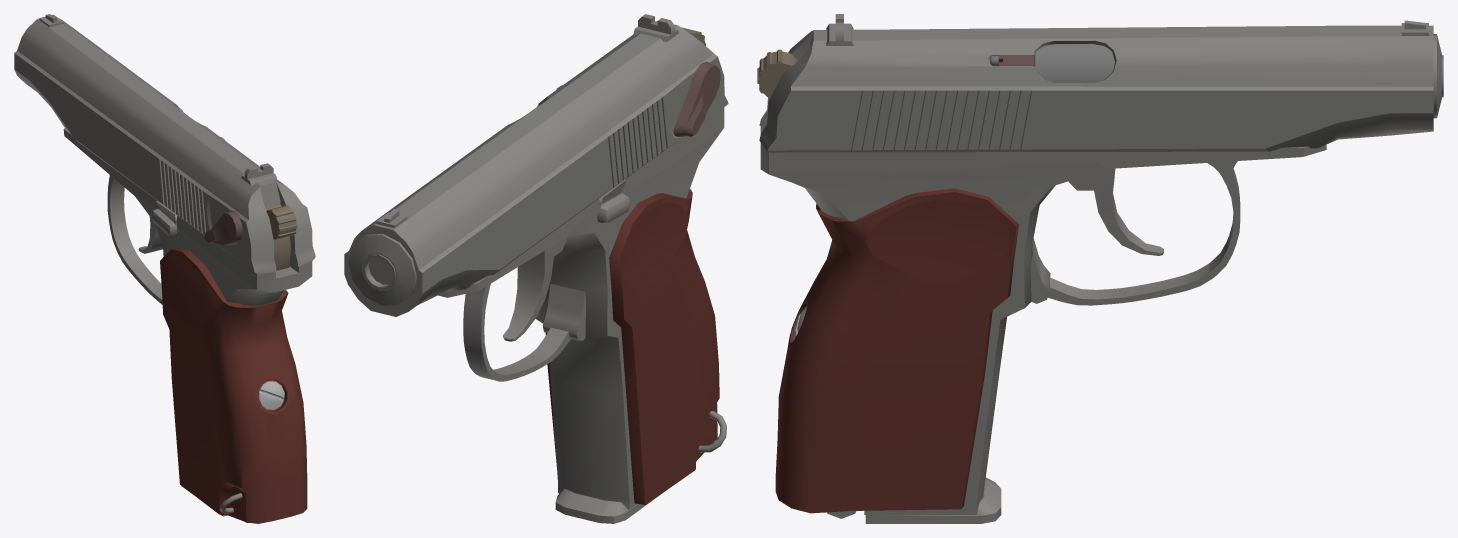
File: Pistolet Makarova.fbx
3 views of the same model, side by side, from view 1: azimuth 30°, elevation 25°; view 2: azimuth 150°, elevation 25°; view 3: azimuth 270°, elevation 25° (orthographic). The views are drawn at different scales.
Parts seen in each view (by area): view 1: polySurface22, polySurface61, polySurface26, polySurface18, polySurface23, polySurface24, pCylinder18, polySurface20, polySurface29, polySurface11; view 2: polySurface61, polySurface22, polySurface26, polySurface18, polySurface17, polySurface11, polySurface23, polySurface19, polySurface27, polySurface20, polySurface14, pTorus1; view 3: polySurface61, polySurface22, polySurface26, polySurface18, pCylinder30, polySurface11, polySurface27, polySurface24, polySurface19.
Boxes of the visible parts, x1,y1,x2,y2 form: polySurface22: (160,248,307,523); polySurface61: (14,18,315,273); polySurface26: (63,128,312,306); polySurface18: (107,175,162,304); polySurface23: (204,210,242,245); polySurface24: (266,205,297,239); pCylinder18: (259,381,284,409); polySurface20: (151,201,177,235); polySurface29: (265,203,290,270); polySurface11: (138,216,162,253); polySurface61: (344,21,728,316); polySurface22: (545,189,719,504); polySurface26: (438,107,724,509); polySurface18: (463,284,570,381); polySurface17: (348,234,416,305); polySurface11: (503,237,567,341); polySurface23: (673,61,720,136); polySurface19: (542,284,585,340); polySurface27: (555,489,659,523); polySurface20: (597,179,630,223); polySurface14: (638,14,674,34); pTorus1: (698,410,726,452); polySurface61: (759,25,1433,152); polySurface22: (775,188,1019,513); polySurface26: (760,126,1326,514); polySurface18: (1048,161,1240,305); pCylinder30: (1035,44,1114,82); polySurface11: (1068,168,1163,255); polySurface27: (865,477,1001,523); polySurface24: (757,49,797,98); polySurface19: (1030,238,1050,303).
Size of the model in its own units: 1.7 by 7.08 by 8.92.
